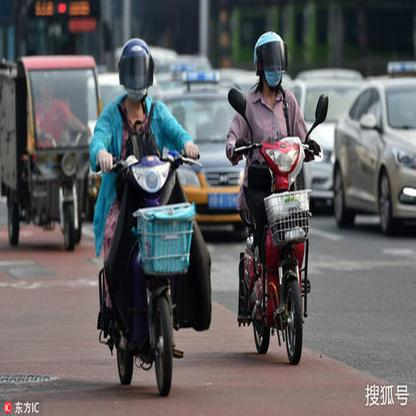target: (88, 38, 213, 397), (225, 31, 333, 367)
